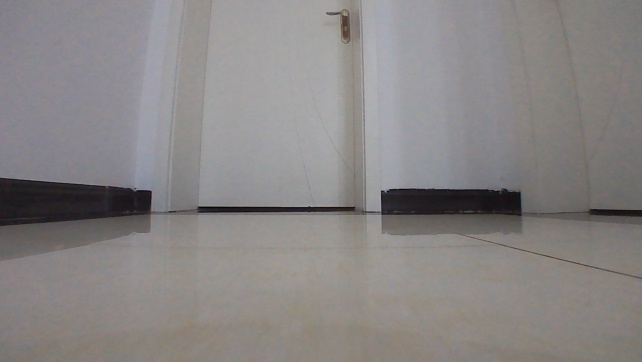door_anno: (146, 0, 382, 216)
